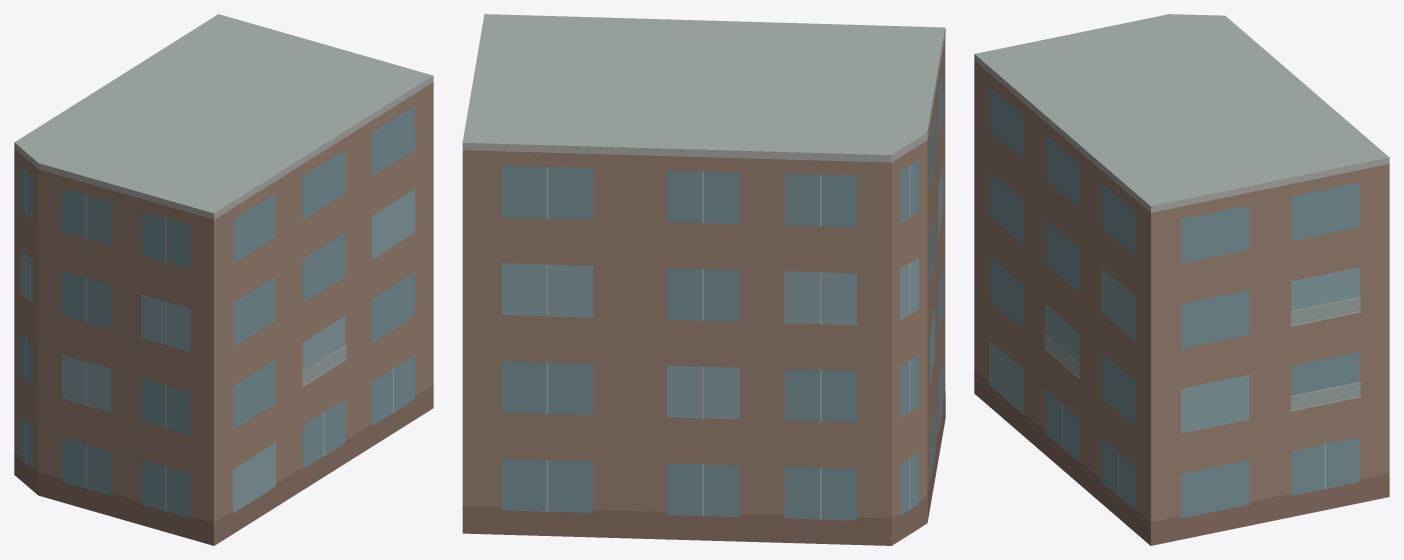
File: survey-upis-32708364.glb
The picture shows the model from 3 angles, left to right: view 1: azimuth 30°, elevation 25°; view 2: azimuth 150°, elevation 25°; view 3: azimuth 270°, elevation 25°; orthographic projection. The views are drawn at different scales.
Visible parts, largest first — view 1: survey-upis-32708364.tmp; view 2: survey-upis-32708364.tmp; view 3: survey-upis-32708364.tmp.
Part boxes in pixels (x1,y1,x2,y2): survey-upis-32708364.tmp: [14, 14, 433, 545]; survey-upis-32708364.tmp: [462, 14, 945, 545]; survey-upis-32708364.tmp: [974, 14, 1389, 545].
Size of the model in its own units: 15.56 by 12.8 by 14.2.
